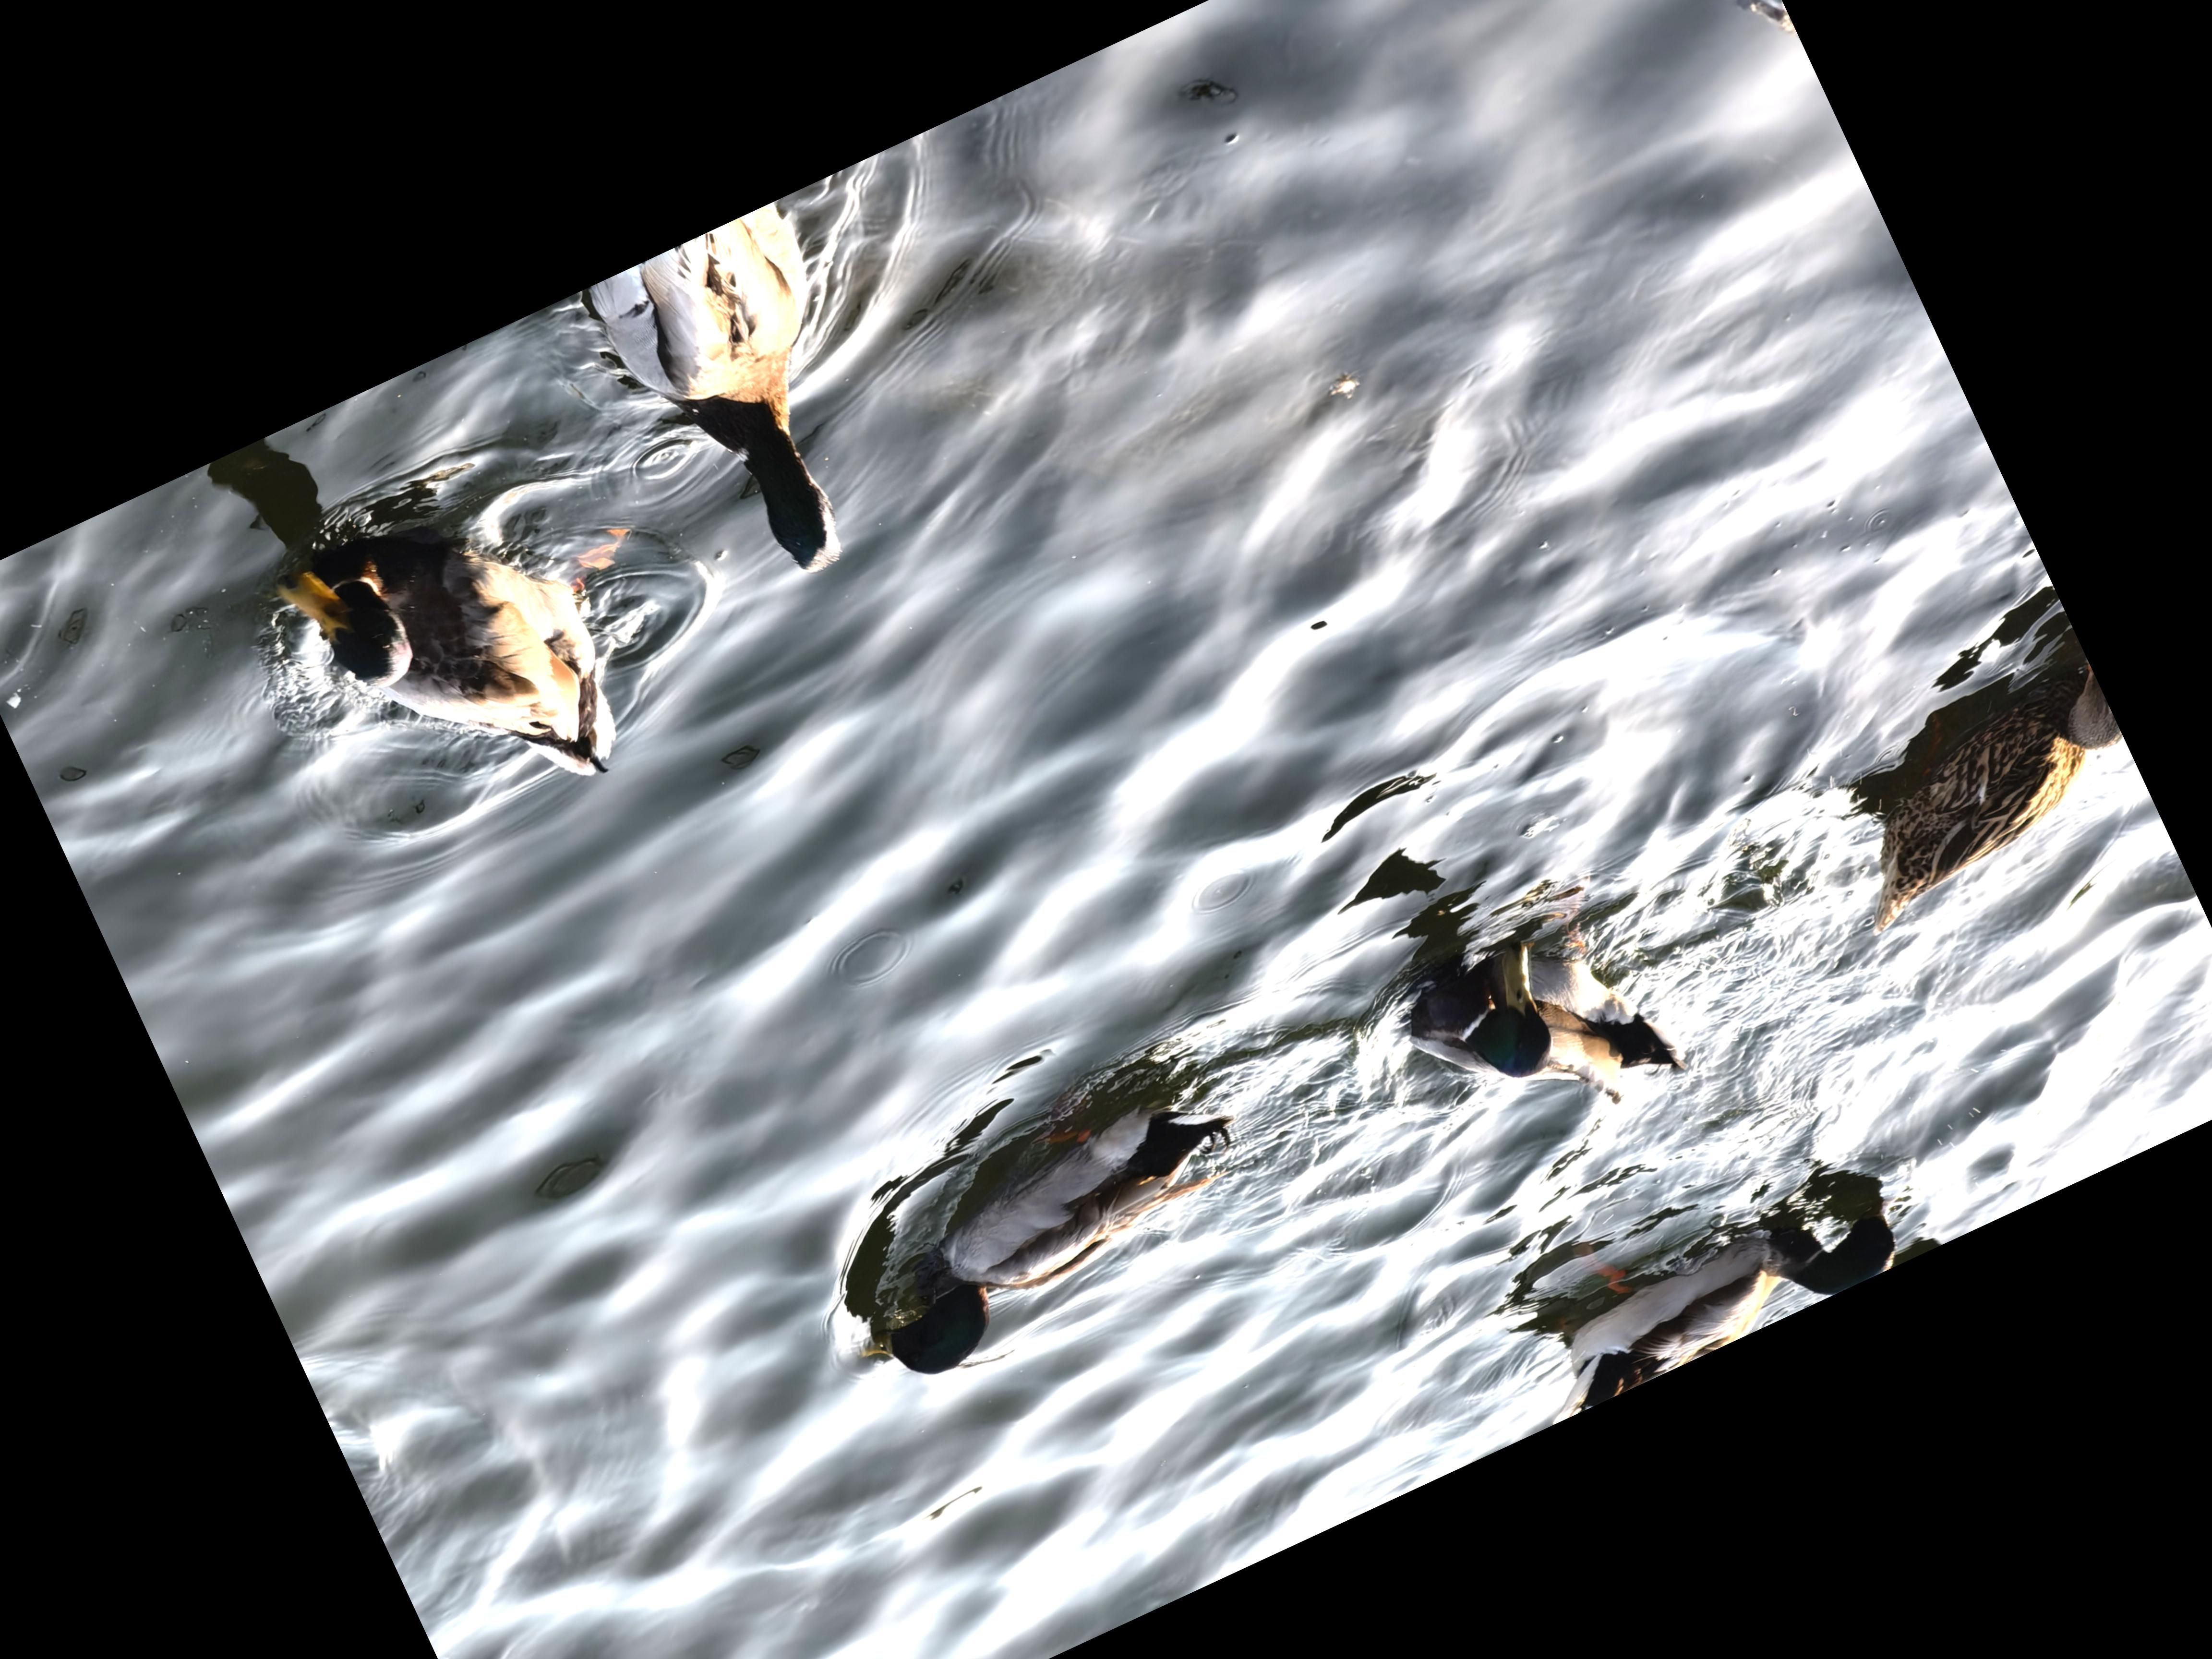duck: (225, 446, 678, 892), (570, 181, 968, 629), (780, 1072, 1278, 1419), (1479, 1100, 1918, 1425), (1778, 641, 2172, 983), (1378, 885, 1714, 1185)
